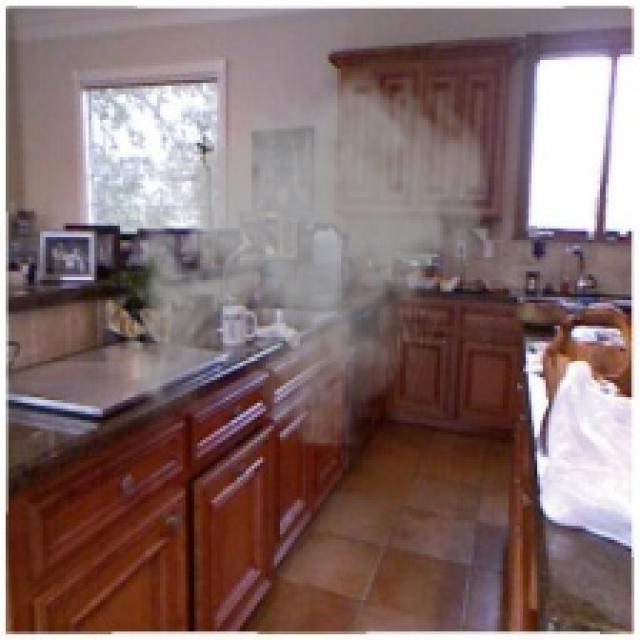Smoke: (114, 57, 497, 449)
